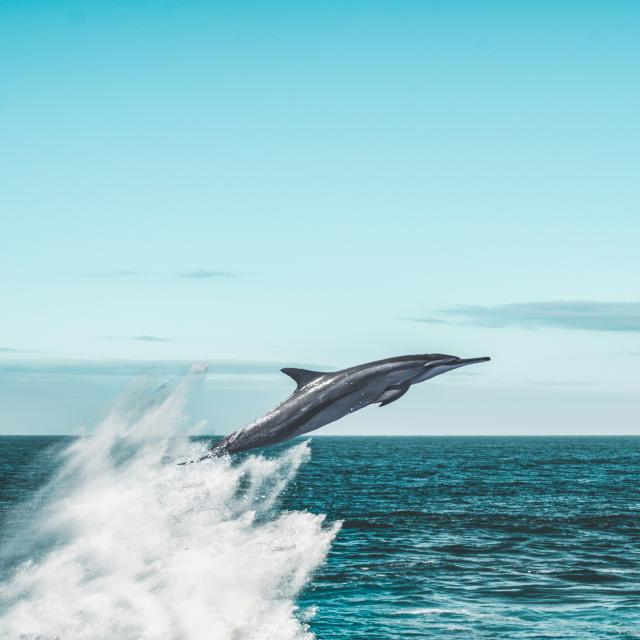penguin: (210, 354, 490, 456)
